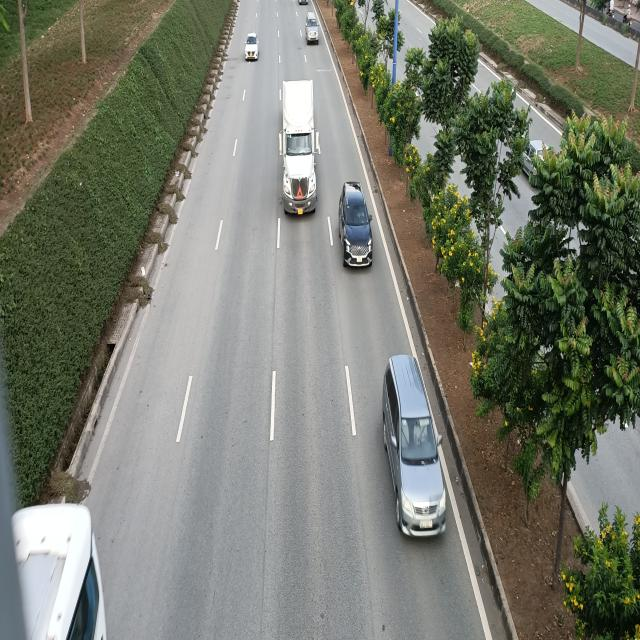car: (382, 353, 447, 535), (339, 180, 374, 268), (244, 33, 259, 62), (306, 13, 320, 42)
container: (278, 78, 320, 214)
